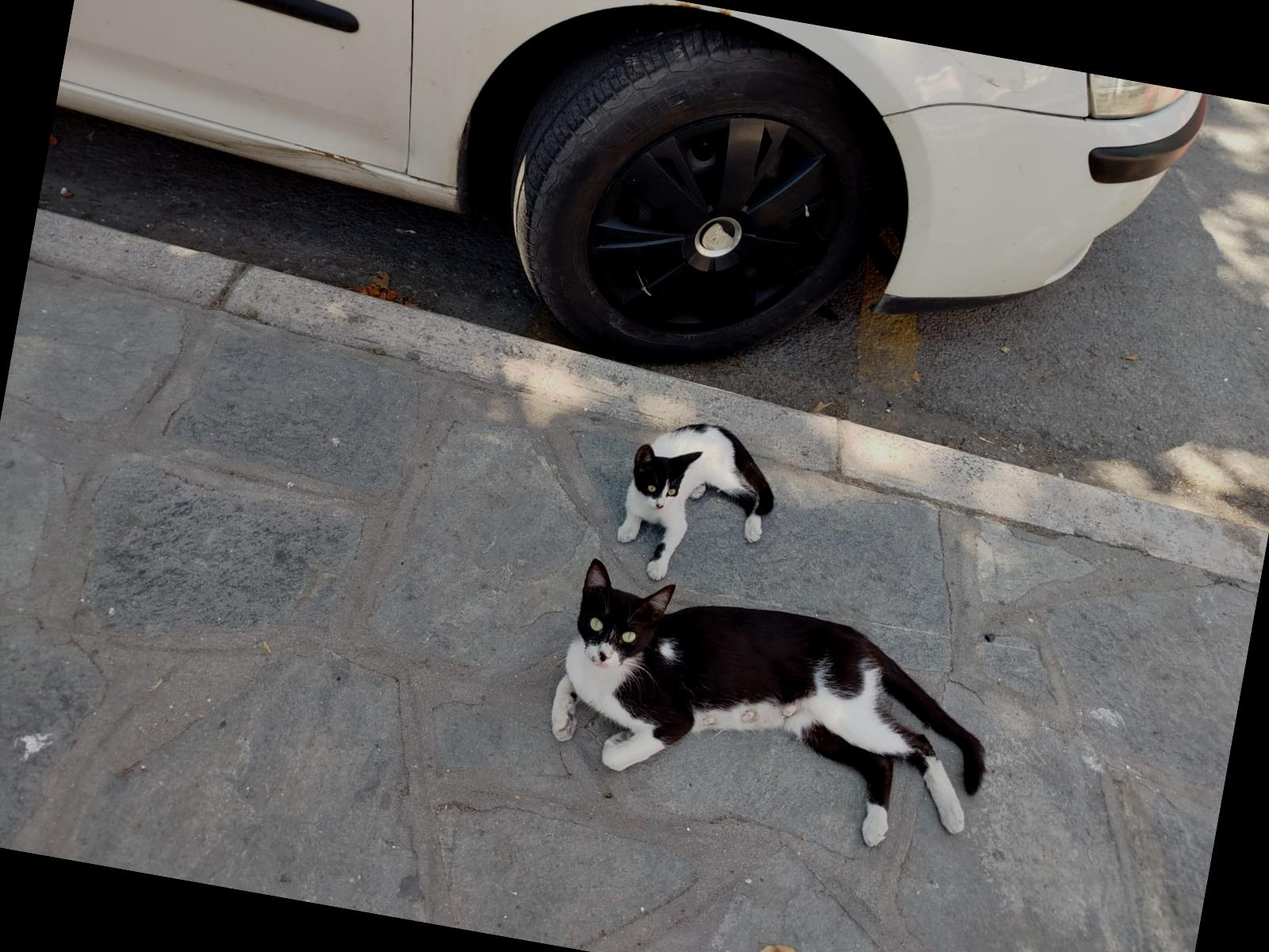macka: (537, 554, 1010, 864), (608, 409, 788, 599)
